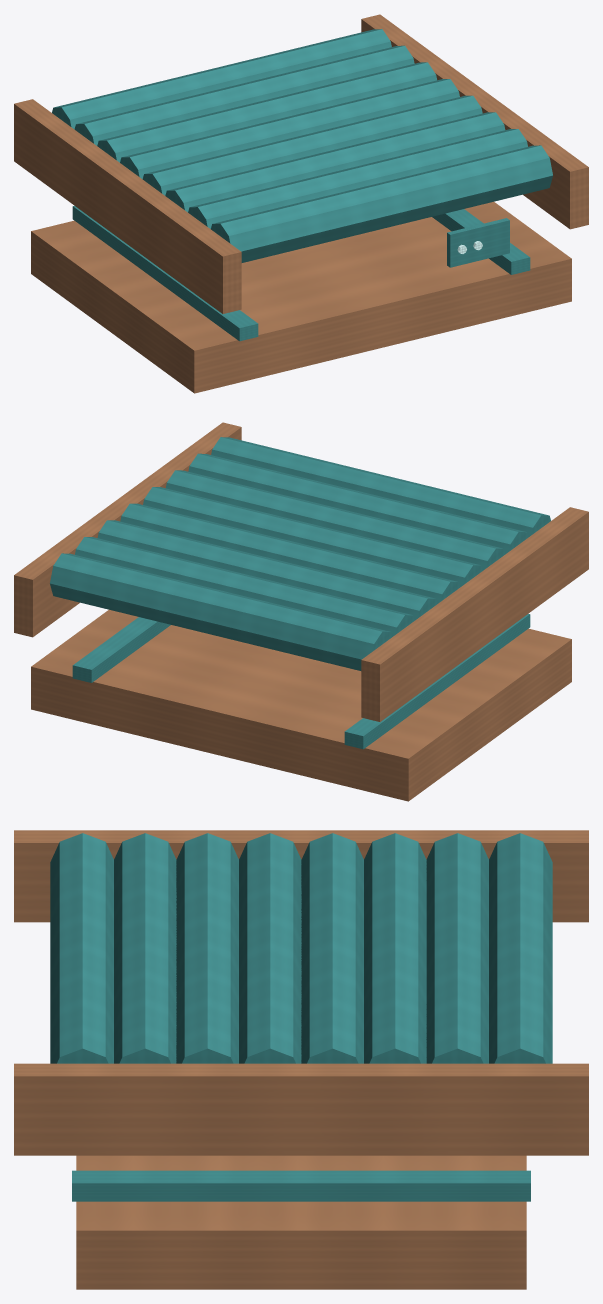
The model's file is atlas100-s098-a02.glb.
3 views of the same model, one above another, from view 1: azimuth 30°, elevation 25°; view 2: azimuth 150°, elevation 25°; view 3: azimuth 270°, elevation 25° (orthographic). The views are drawn at different scales.
Parts seen in each view (by area): view 1: atlas100-s098-a02:part-000, atlas100-s098-a02:part-011, atlas100-s098-a02:part-010, atlas100-s098-a02:part-007, atlas100-s098-a02:part-004, atlas100-s098-a02:part-008, atlas100-s098-a02:part-005, atlas100-s098-a02:part-006, atlas100-s098-a02:part-003, atlas100-s098-a02:part-009, atlas100-s098-a02:part-012, atlas100-s098-a02:part-001 (+2 smaller); view 2: atlas100-s098-a02:part-000, atlas100-s098-a02:part-011, atlas100-s098-a02:part-003, atlas100-s098-a02:part-006, atlas100-s098-a02:part-009, atlas100-s098-a02:part-005, atlas100-s098-a02:part-008, atlas100-s098-a02:part-007, atlas100-s098-a02:part-010, atlas100-s098-a02:part-004, atlas100-s098-a02:part-012, atlas100-s098-a02:part-001 (+1 smaller); view 3: atlas100-s098-a02:part-012, atlas100-s098-a02:part-000, atlas100-s098-a02:part-002, atlas100-s098-a02:part-003, atlas100-s098-a02:part-010, atlas100-s098-a02:part-004, atlas100-s098-a02:part-005, atlas100-s098-a02:part-006, atlas100-s098-a02:part-007, atlas100-s098-a02:part-008, atlas100-s098-a02:part-009, atlas100-s098-a02:part-011.
Boxes of the visible parts, x1=… form: atlas100-s098-a02:part-000: x1=31, y1=201, x2=571, y2=393; atlas100-s098-a02:part-011: x1=14, y1=99, x2=241, y2=313; atlas100-s098-a02:part-010: x1=211, y1=145, x2=552, y2=262; atlas100-s098-a02:part-007: x1=142, y1=95, x2=482, y2=195; atlas100-s098-a02:part-004: x1=74, y1=45, x2=414, y2=145; atlas100-s098-a02:part-008: x1=165, y1=112, x2=505, y2=212; atlas100-s098-a02:part-005: x1=97, y1=62, x2=436, y2=162; atlas100-s098-a02:part-006: x1=120, y1=79, x2=459, y2=178; atlas100-s098-a02:part-003: x1=52, y1=29, x2=391, y2=129; atlas100-s098-a02:part-009: x1=188, y1=129, x2=527, y2=228; atlas100-s098-a02:part-012: x1=361, y1=14, x2=588, y2=229; atlas100-s098-a02:part-001: x1=72, y1=206, x2=258, y2=341; atlas100-s098-a02:part-000: x1=31, y1=609, x2=571, y2=801; atlas100-s098-a02:part-011: x1=361, y1=507, x2=588, y2=721; atlas100-s098-a02:part-003: x1=50, y1=553, x2=391, y2=670; atlas100-s098-a02:part-006: x1=120, y1=503, x2=460, y2=603; atlas100-s098-a02:part-009: x1=188, y1=453, x2=528, y2=553; atlas100-s098-a02:part-005: x1=97, y1=520, x2=437, y2=620; atlas100-s098-a02:part-008: x1=166, y1=470, x2=505, y2=570; atlas100-s098-a02:part-007: x1=143, y1=487, x2=482, y2=586; atlas100-s098-a02:part-010: x1=211, y1=437, x2=550, y2=537; atlas100-s098-a02:part-004: x1=75, y1=537, x2=414, y2=636; atlas100-s098-a02:part-012: x1=14, y1=422, x2=241, y2=637; atlas100-s098-a02:part-001: x1=344, y1=614, x2=530, y2=749; atlas100-s098-a02:part-012: x1=14, y1=1063, x2=588, y2=1155; atlas100-s098-a02:part-000: x1=76, y1=1155, x2=526, y2=1289; atlas100-s098-a02:part-002: x1=72, y1=1170, x2=530, y2=1201; atlas100-s098-a02:part-003: x1=489, y1=833, x2=552, y2=1063; atlas100-s098-a02:part-010: x1=50, y1=833, x2=113, y2=1063; atlas100-s098-a02:part-004: x1=426, y1=833, x2=488, y2=1063; atlas100-s098-a02:part-005: x1=364, y1=833, x2=426, y2=1063; atlas100-s098-a02:part-006: x1=301, y1=833, x2=363, y2=1063; atlas100-s098-a02:part-007: x1=239, y1=833, x2=301, y2=1063; atlas100-s098-a02:part-008: x1=176, y1=833, x2=238, y2=1063; atlas100-s098-a02:part-009: x1=114, y1=833, x2=176, y2=1063; atlas100-s098-a02:part-011: x1=14, y1=830, x2=588, y2=922.
Bounding box in the file's own units: 2.4 × 0.98 × 2.3.
3 materials, 3 textured.
